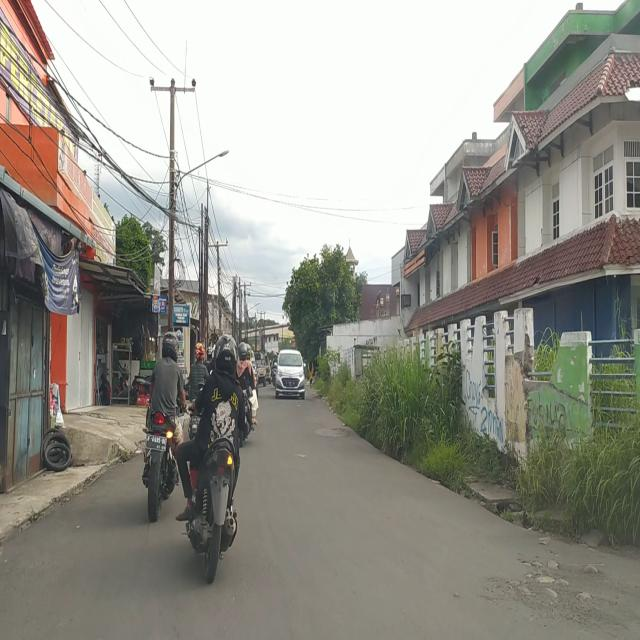Drain Hole: (470, 539, 615, 633)
